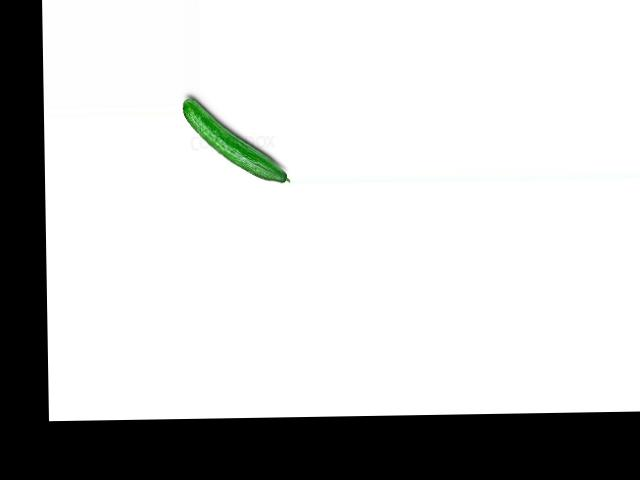cucumber: (183, 95, 291, 184)
